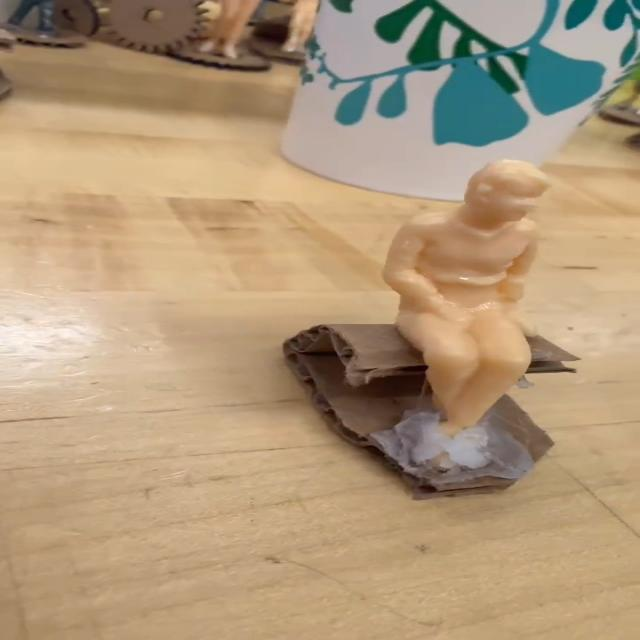Unauthorized: (382, 157, 558, 480)
